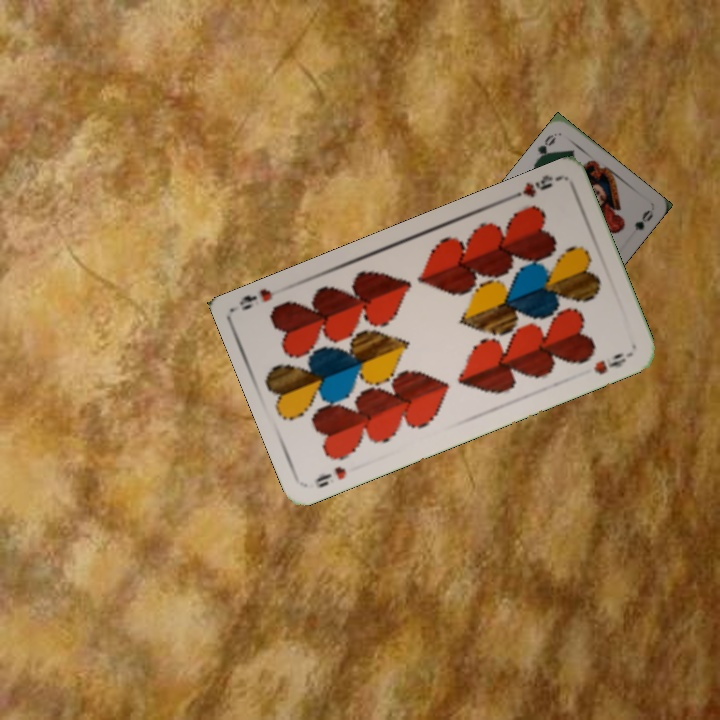GO: (531, 130, 559, 166)
H9: (504, 171, 561, 203), (310, 462, 349, 491)
